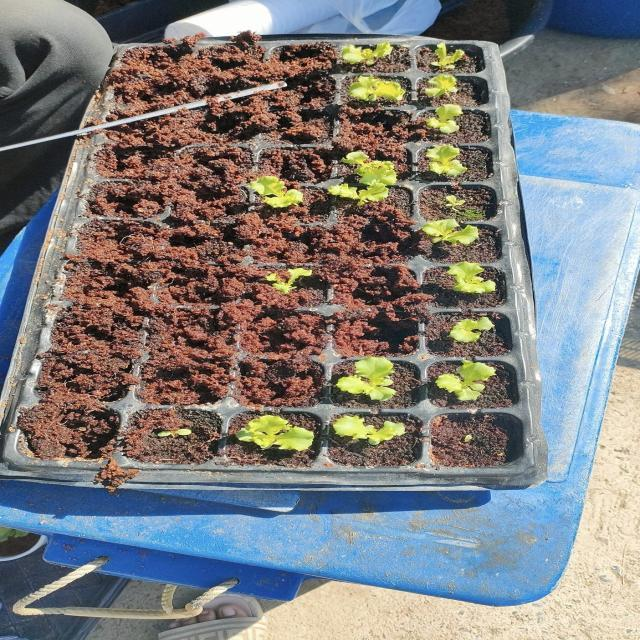Lettuce-Not-Ready-to-Harvest: (333, 354, 400, 407), (234, 414, 318, 455), (432, 361, 499, 403), (334, 413, 406, 451), (244, 174, 305, 213), (344, 73, 409, 106), (422, 214, 479, 249), (443, 258, 498, 294), (345, 147, 397, 185), (339, 39, 398, 69), (426, 140, 467, 183), (445, 314, 495, 348), (329, 184, 392, 209), (424, 101, 468, 136), (263, 267, 312, 295), (426, 73, 461, 106), (427, 41, 467, 69), (151, 424, 195, 444), (444, 193, 470, 216)
